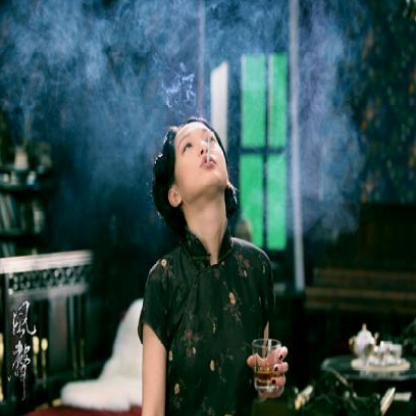cigarette: (206, 136, 212, 166)
person: (148, 115, 282, 415)
smoke: (0, 6, 201, 131), (291, 11, 368, 246), (206, 0, 284, 57)
